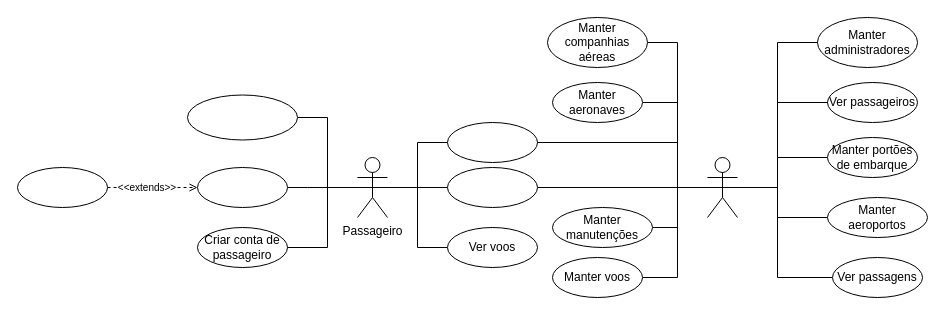
Image size: 945x315. Some labels were removed from this diagram. The centre of each missing label's shape, as x and y in pixels:
Administrador: the point at 722,187
Autenticar no sistema: the point at 492,187
Comprar passagens: the point at 242,187
Realizar check-in: the point at 492,142
Reservar assento: the point at 62,187
Ver passagens compradas: the point at 242,117
